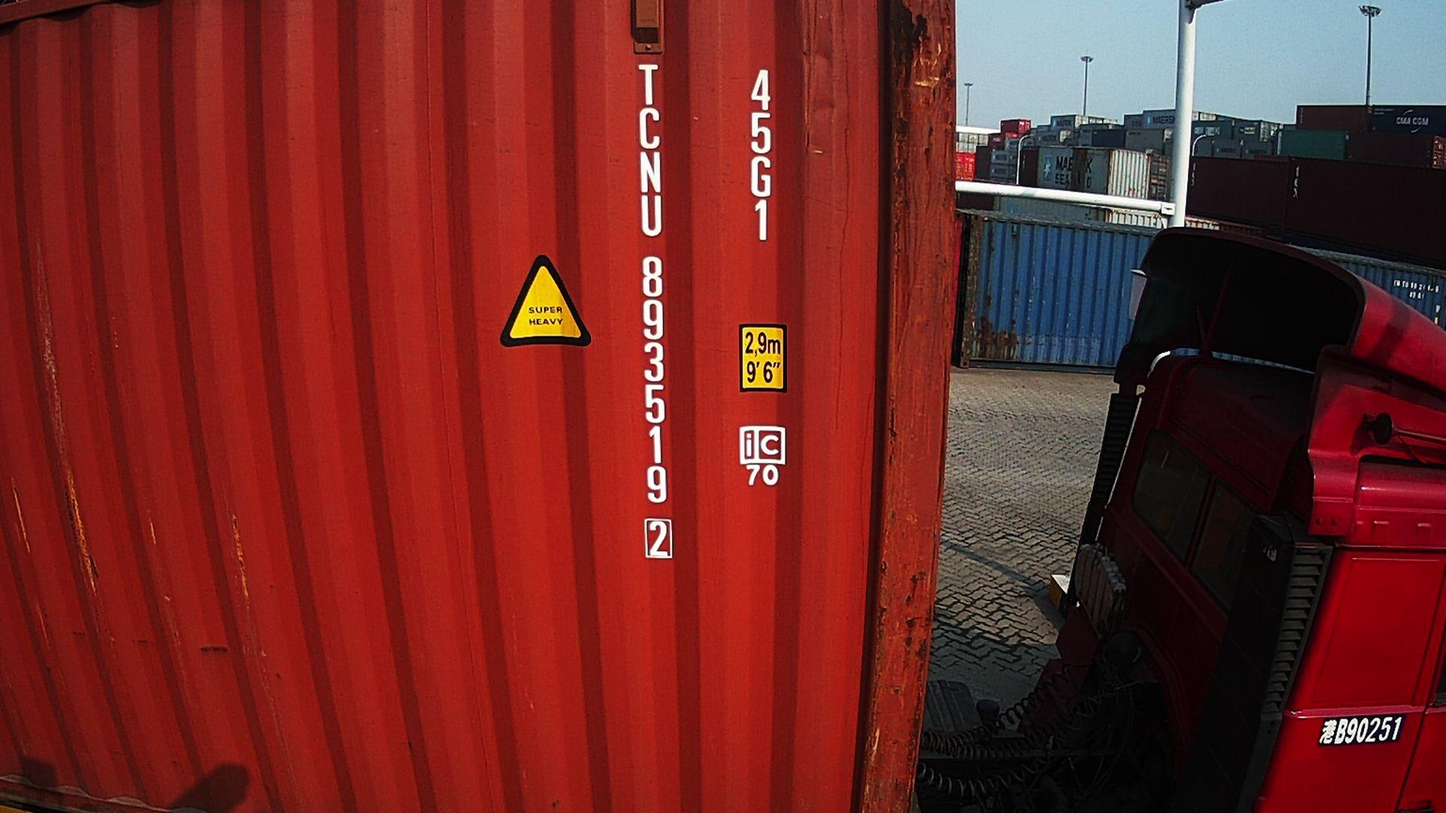container-numbers: (632, 60, 676, 564), (743, 65, 781, 247)
